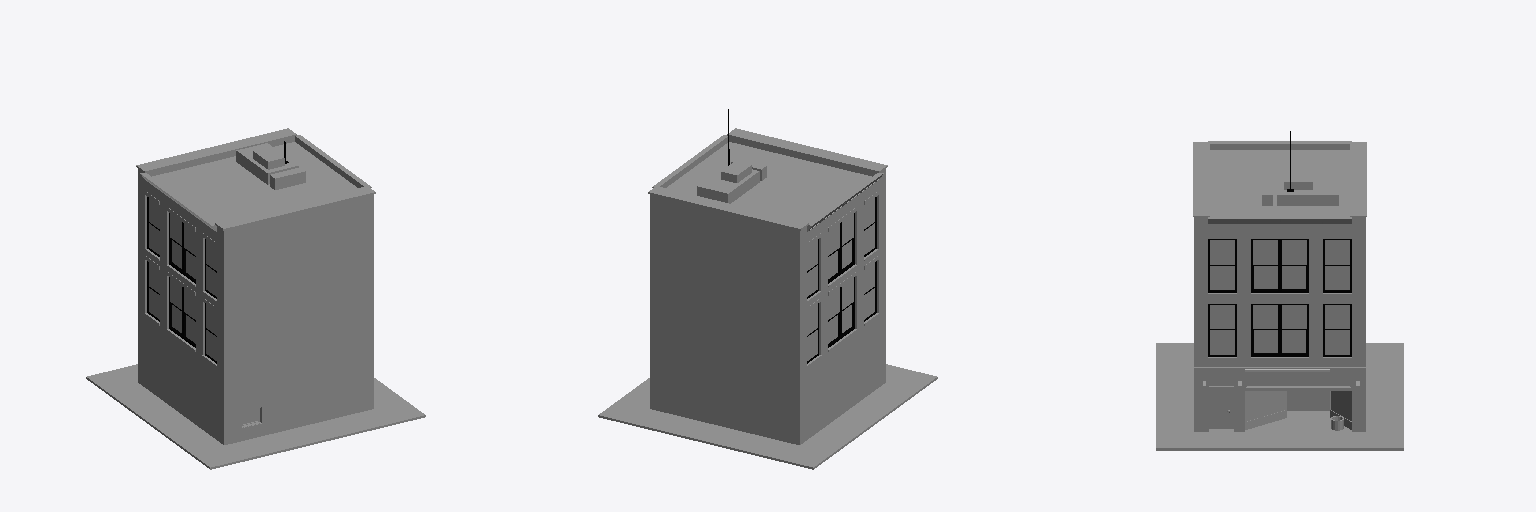
The model's file is building_fixed.obj.
The picture shows the model from 3 angles: view 1: azimuth 30°, elevation 25°; view 2: azimuth 150°, elevation 25°; view 3: azimuth 270°, elevation 25°; orthographic projection.
Parts seen in each view (by area): view 1: Plane; view 2: Plane; view 3: Plane.
Boxes of the visible parts, x1=… form: Plane: x1=86, y1=128, x2=425, y2=469; Plane: x1=598, y1=109, x2=937, y2=469; Plane: x1=1156, y1=131, x2=1403, y2=450.
Size of the model in its own units: 0.534 by 0.6731 by 0.534.